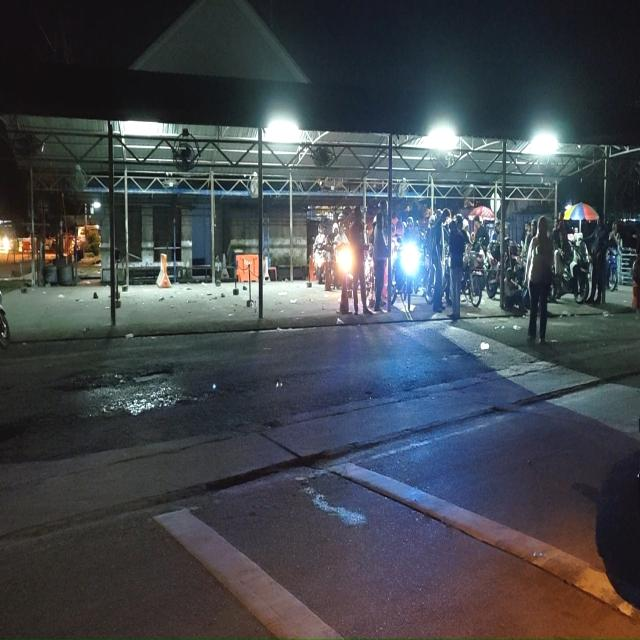Golongan II: (548, 238, 590, 304), (390, 241, 420, 309), (461, 248, 485, 308), (332, 243, 353, 291), (485, 240, 500, 299), (314, 244, 332, 285), (0, 292, 10, 348), (606, 247, 618, 291)
